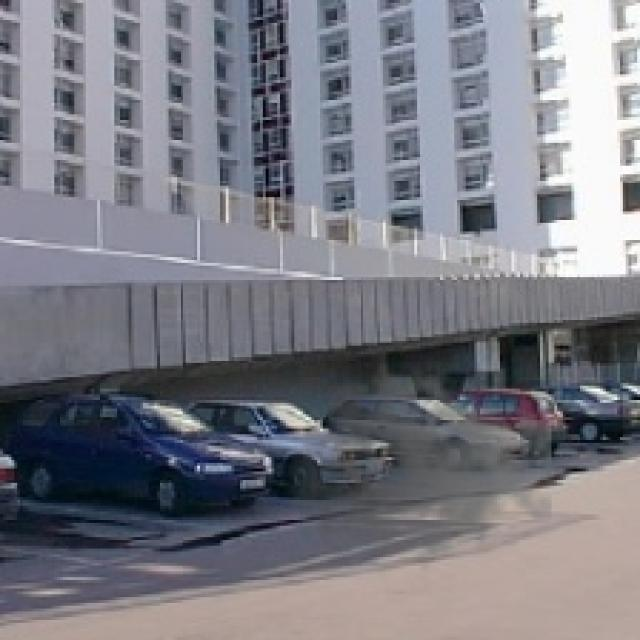smoke: (286, 360, 551, 583)
